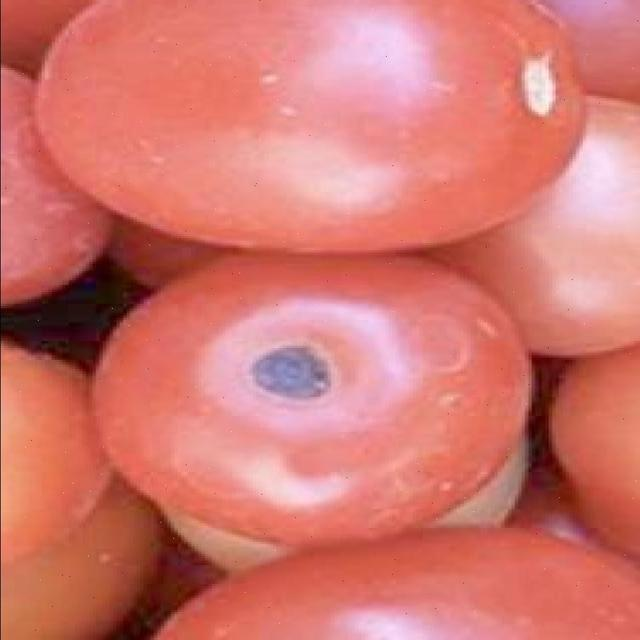Blossom End Rot Fruit: (165, 224, 230, 276)
